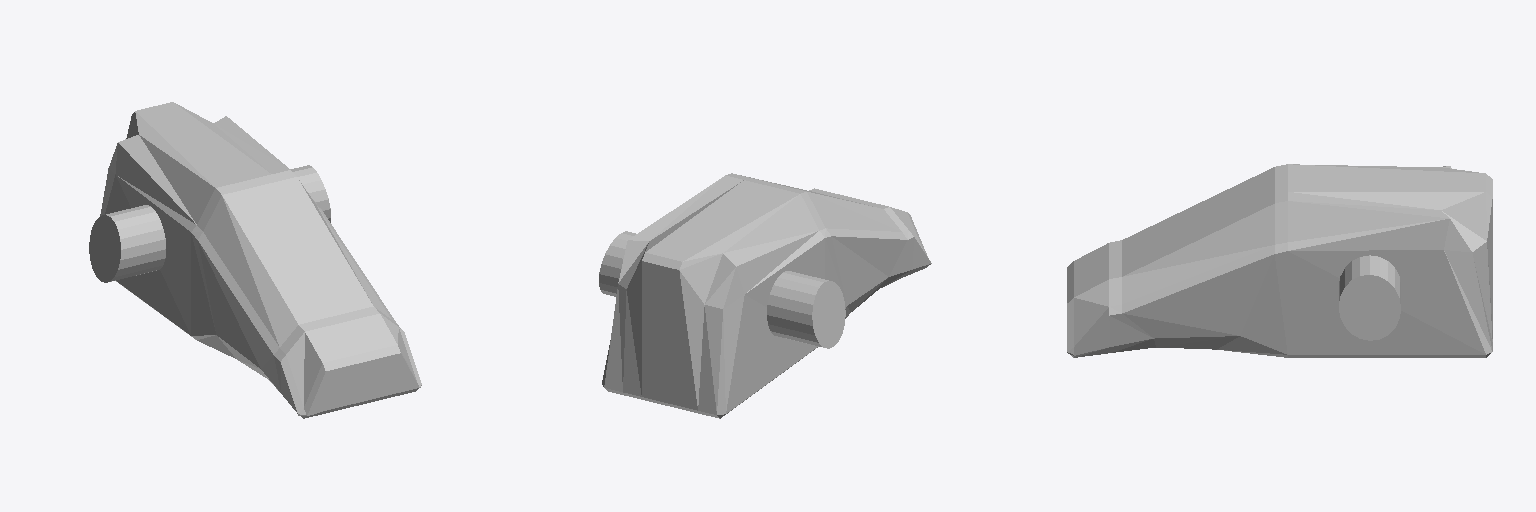
File: vragquad3.obj
3 renders of one model, left to right at view 1: azimuth 30°, elevation 25°; view 2: azimuth 150°, elevation 25°; view 3: azimuth 270°, elevation 25°, orthographic.
Parts seen in each view (by area): view 1: vrag; view 2: vrag; view 3: vrag.
Part boxes in pixels (x1,y1,x2,y2): vrag: (89, 102, 421, 418); vrag: (599, 173, 931, 418); vrag: (1067, 164, 1492, 357).
Bounding box in the file's own units: 5.81 × 3.7 × 9.66.